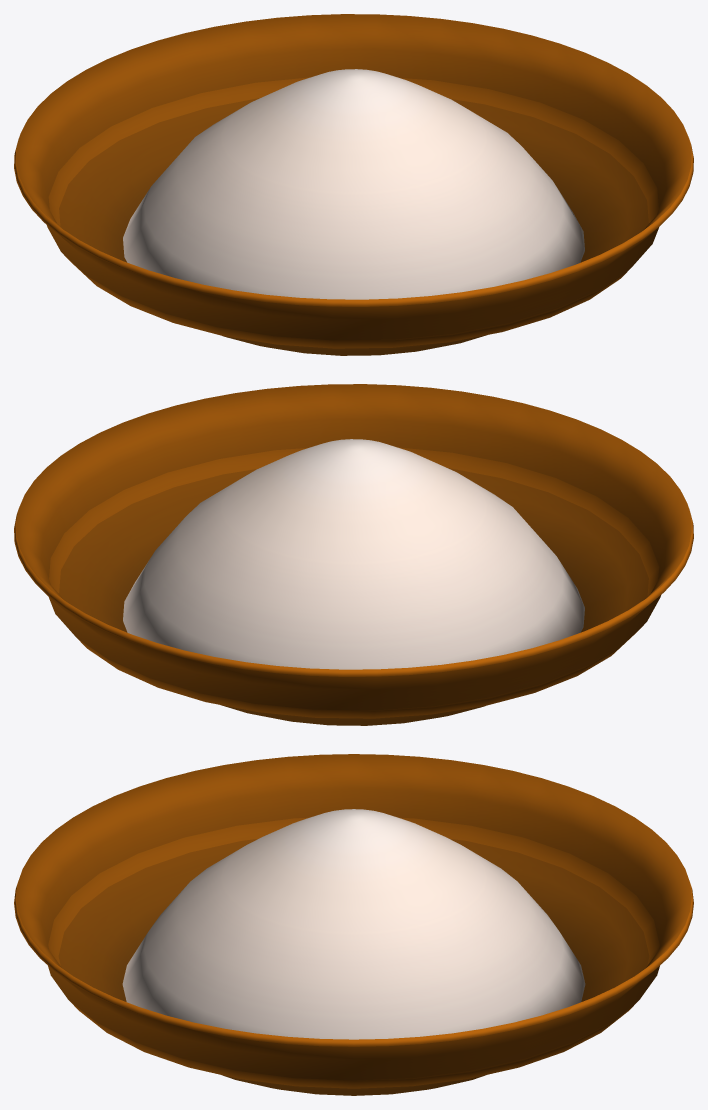
The model's file is salt.glb.
The picture shows the model from 3 angles, top to bottom: view 1: azimuth 30°, elevation 25°; view 2: azimuth 150°, elevation 25°; view 3: azimuth 270°, elevation 25°; orthographic projection.
Parts seen in each view (by area): view 1: plate; view 2: plate; view 3: plate.
Boxes of the visible parts, x1,y1,x2,y2 form: plate: [14, 14, 693, 355]; plate: [14, 384, 693, 725]; plate: [14, 754, 693, 1095].
Size of what is drawn, in the model's own units: 0.542 by 0.1776 by 0.542.
1 material, 1 textured.
